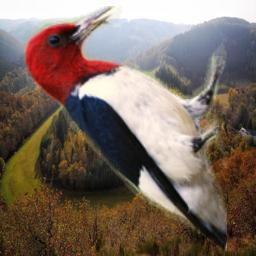Woodpecker: (21, 6, 227, 251)
